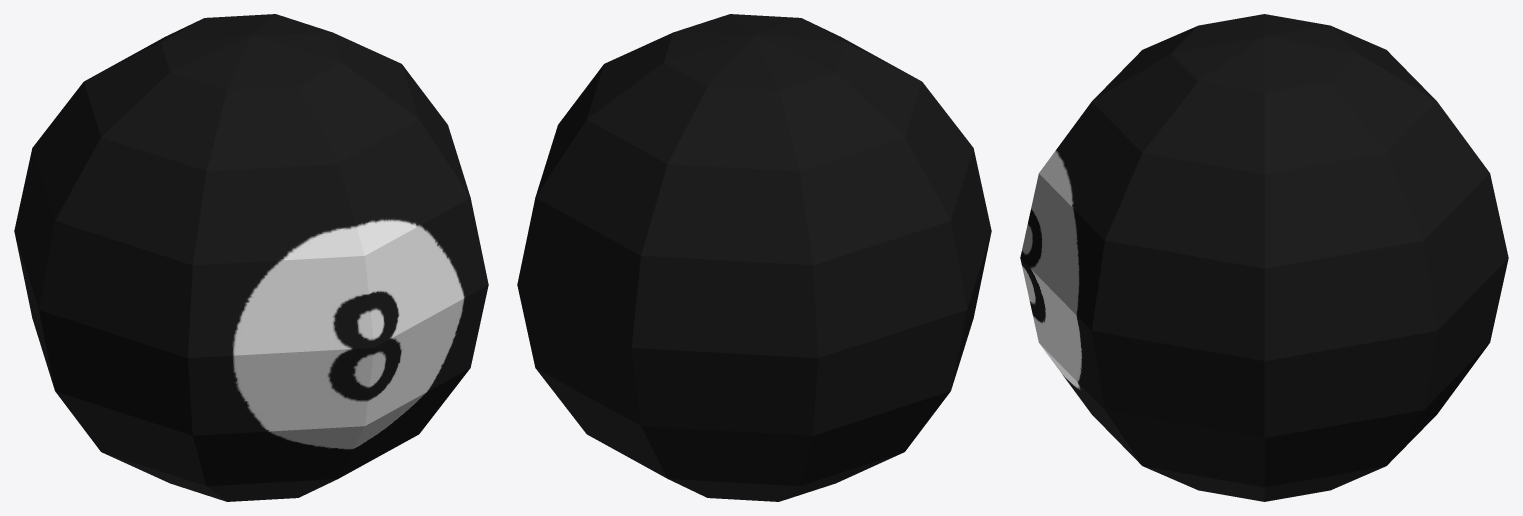
Rendered from Eight ball.glb.
3 views of the same model, side by side, from view 1: azimuth 30°, elevation 25°; view 2: azimuth 150°, elevation 25°; view 3: azimuth 270°, elevation 25° (orthographic).
Visible parts, largest first — view 1: Node; view 2: Node; view 3: Node.
Boxes of the visible parts, bbox=[...] form: Node: bbox=[14, 14, 488, 501]; Node: bbox=[517, 14, 991, 501]; Node: bbox=[1020, 14, 1508, 501].
Size of the model in its own units: 2 by 2 by 2.
1 material, 1 textured.
